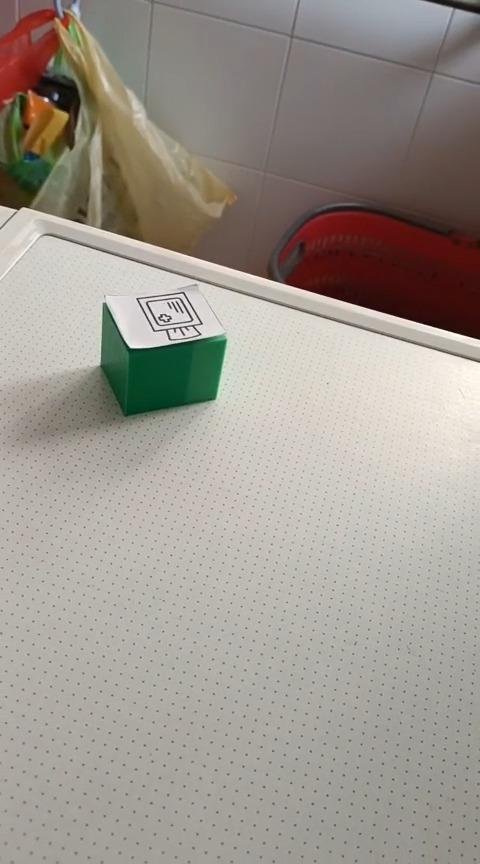Gauze: (98, 282, 228, 417)
